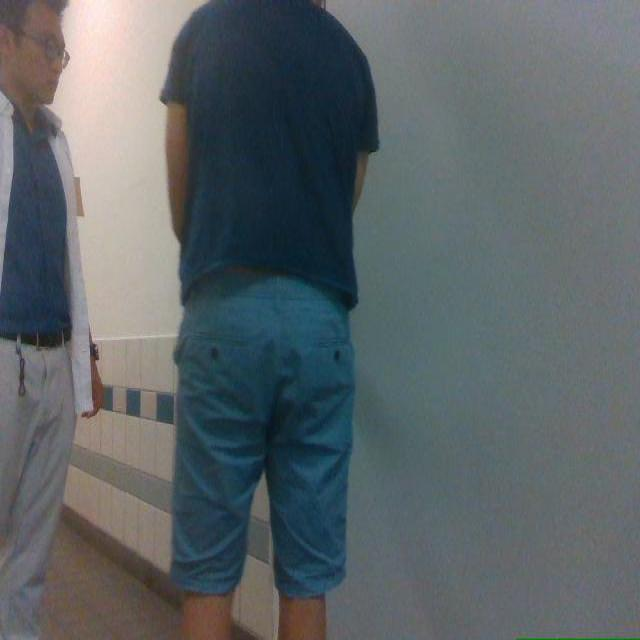humans: (161, 0, 378, 639), (0, 0, 102, 639)
